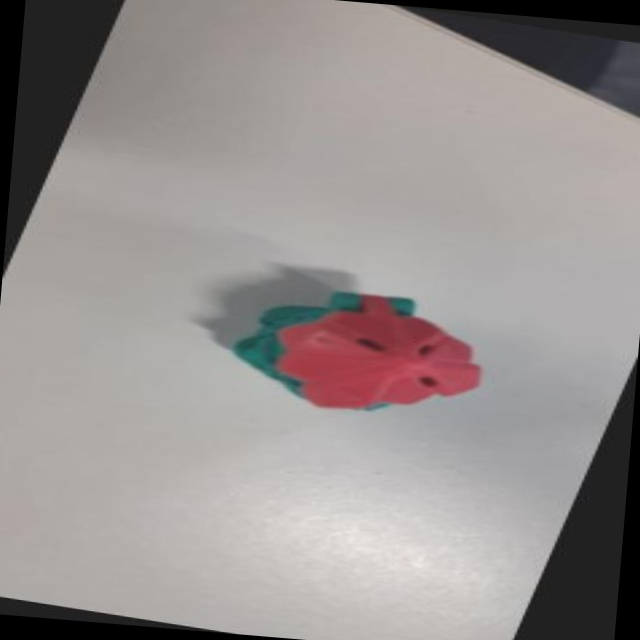House: (197, 268, 518, 434)
